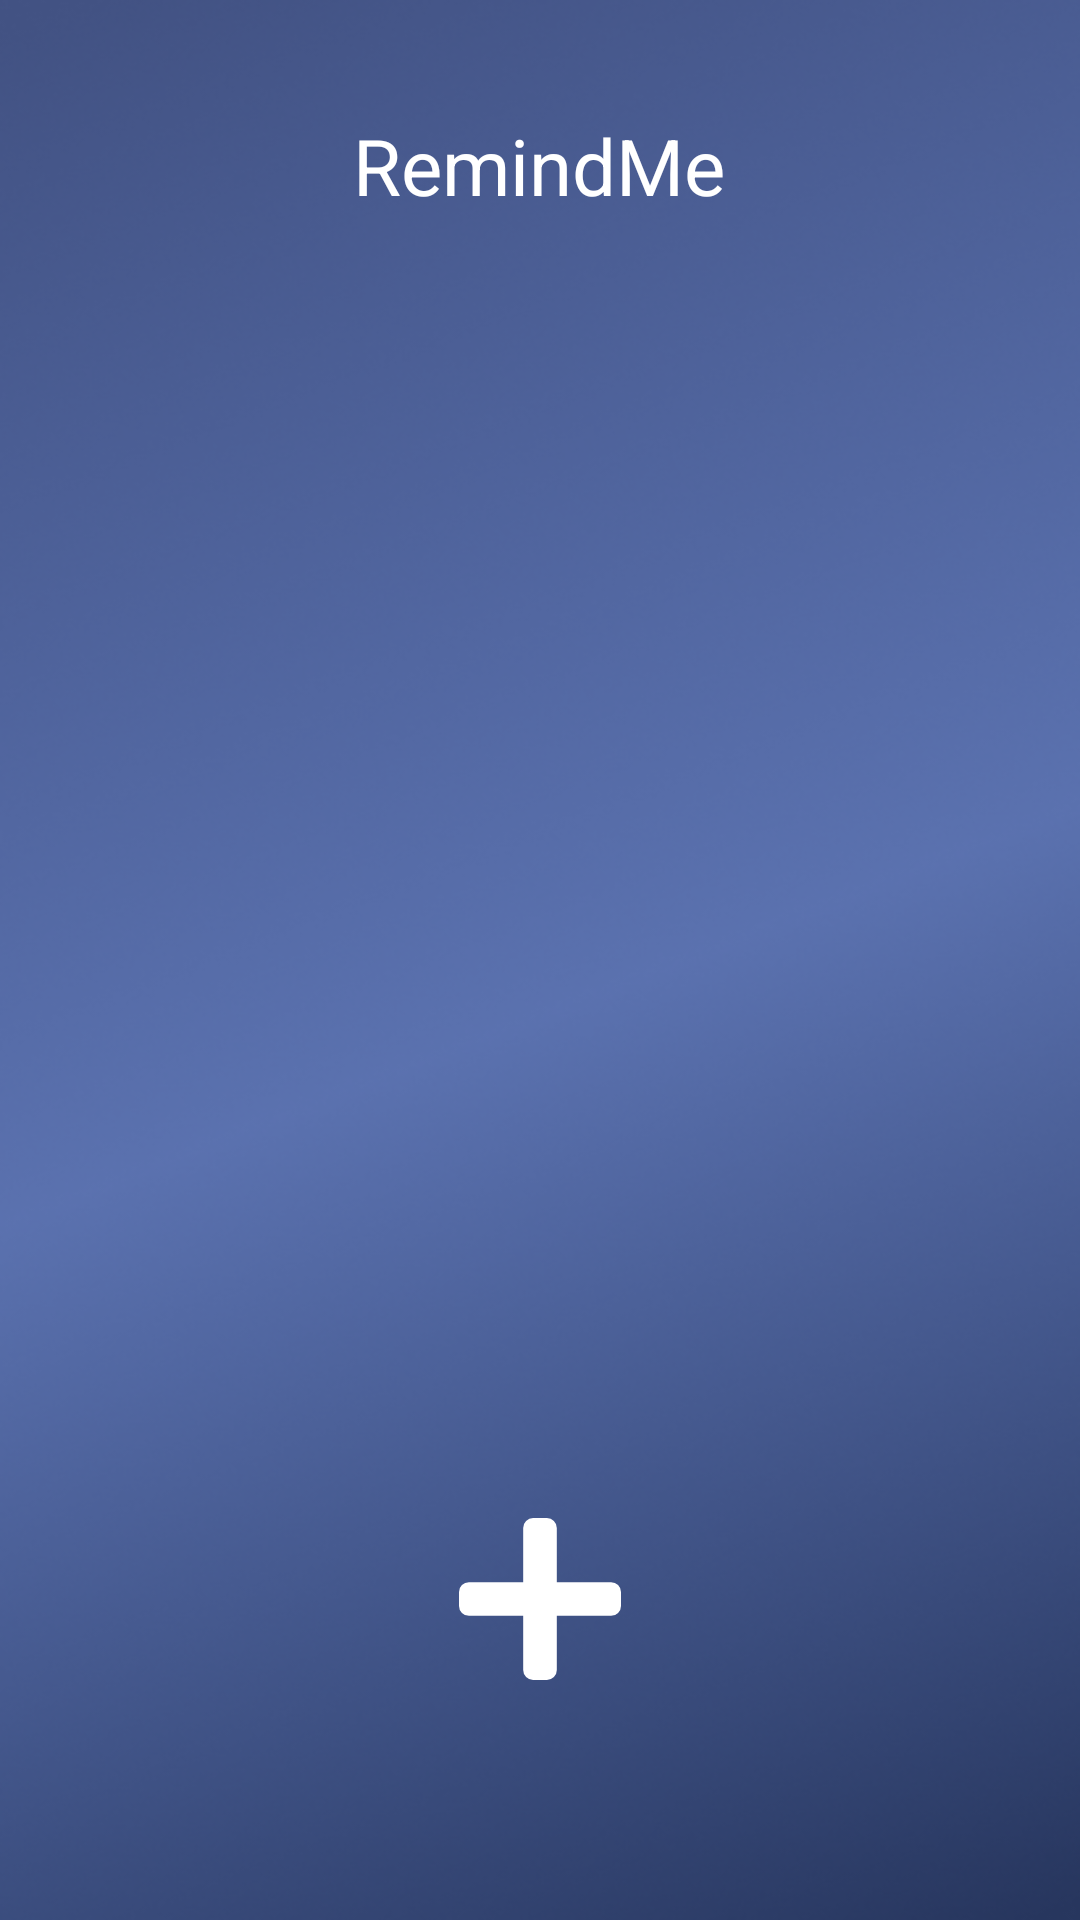

Screen size 1080×1920. Icon name, then its center in pixels as (x,y):
plus: (540,1599)
